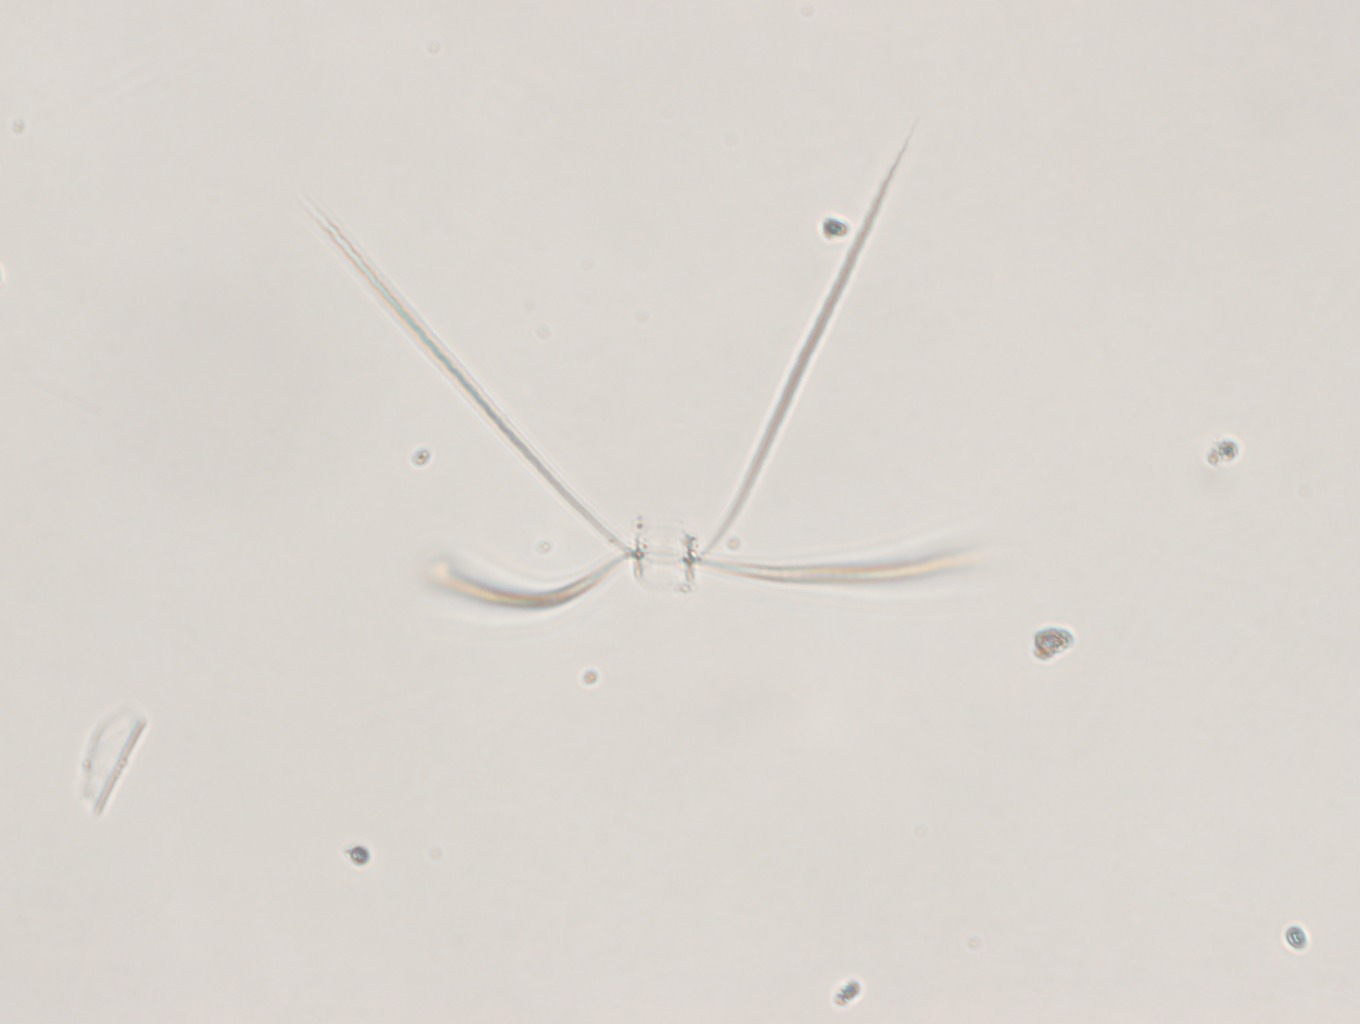chaetoceros: (291, 139, 1033, 628)
